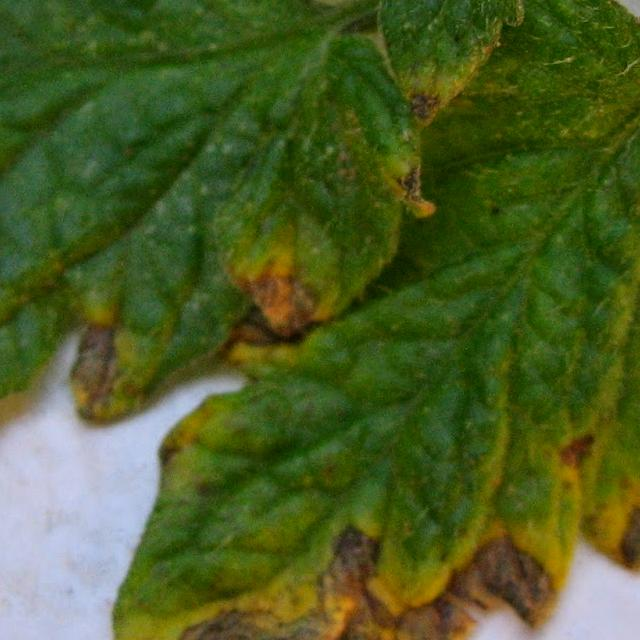Tomato Septoria leaf spot: (83, 0, 640, 640), (0, 0, 640, 494)
